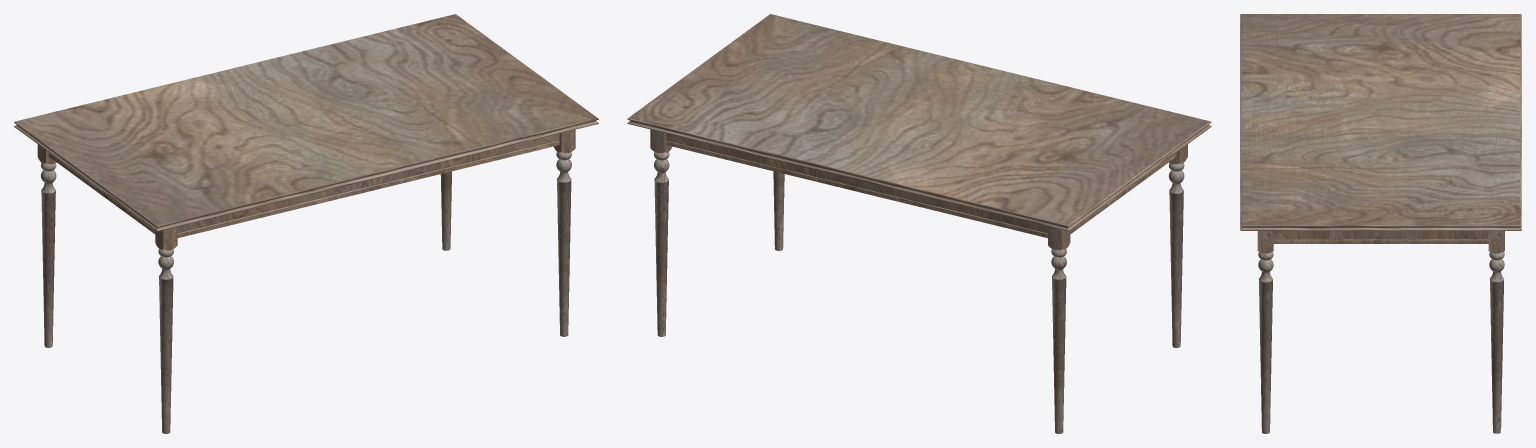
Rendered from kitchen_table.dae.
3 renders of one model, left to right at view 1: azimuth 30°, elevation 25°; view 2: azimuth 150°, elevation 25°; view 3: azimuth 270°, elevation 25°, orthographic.
Parts seen in each view (by area): view 1: group_1, group_6, instance_5, instance_1_001, instance_1, instance_3; view 2: group_1, group_7, instance_5, instance_1, instance_3, instance_1_001; view 3: group_1, group_9, instance_1_001, instance_3, instance_2_001, instance_4.
Part boxes in pixels (x1,y1,x2,y2): group_1: [14, 14, 598, 231]; group_6: [177, 133, 559, 237]; instance_5: [158, 249, 173, 433]; instance_1_001: [556, 152, 571, 336]; instance_1: [41, 163, 56, 347]; instance_3: [440, 171, 451, 250]; group_1: [627, 14, 1211, 231]; group_7: [666, 133, 1047, 237]; instance_5: [1168, 163, 1184, 347]; instance_1: [1051, 249, 1066, 433]; instance_3: [654, 152, 669, 336]; instance_1_001: [773, 171, 784, 250]; group_1: [1240, 14, 1521, 230]; group_9: [1273, 231, 1488, 243]; instance_1_001: [1258, 252, 1273, 433]; instance_3: [1489, 251, 1504, 433]; instance_2_001: [1257, 231, 1273, 253]; instance_4: [1488, 231, 1504, 253].
Size of the model in its own units: 1.55 by 0.868 by 0.74.
Materials: 6 (5 with a texture image).
